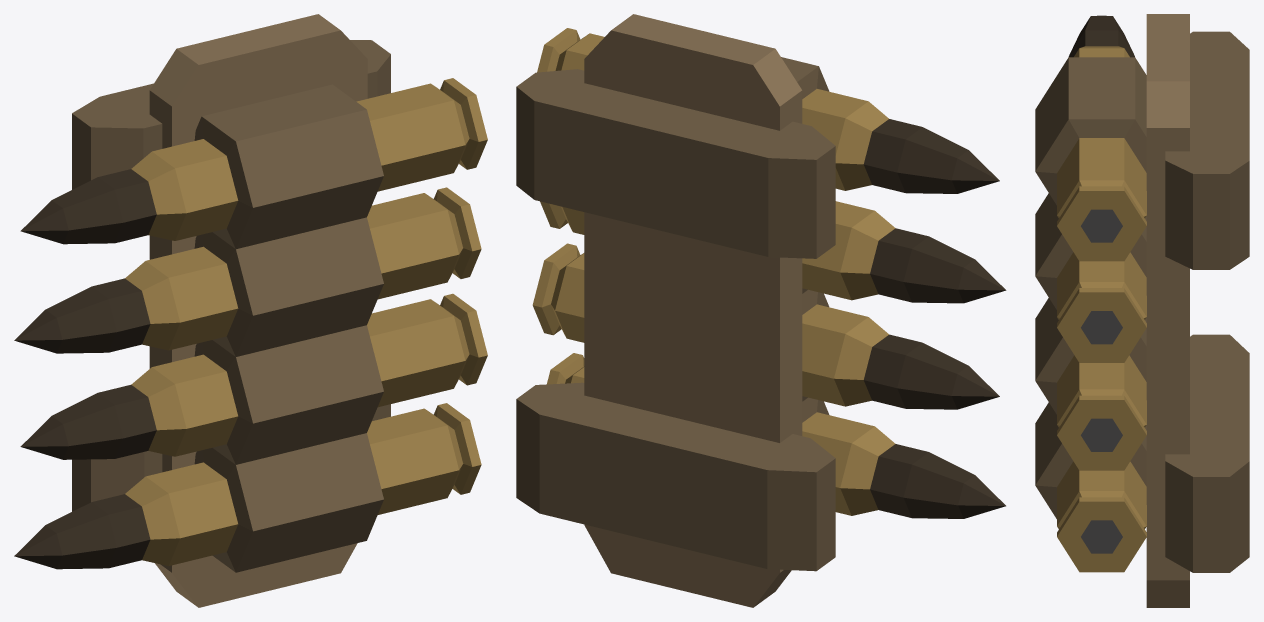
File: SM_Chr_Attach_ShellStrip_Rifle_01.fbx
3 renders of one model, left to right at view 1: azimuth 30°, elevation 25°; view 2: azimuth 150°, elevation 25°; view 3: azimuth 270°, elevation 25°, orthographic. The views are drawn at different scales.
Visible parts, largest first — view 1: SM_Chr_Attach_ShellStrip_Rifle_01; view 2: SM_Chr_Attach_ShellStrip_Rifle_01; view 3: SM_Chr_Attach_ShellStrip_Rifle_01.
Boxes of the visible parts, box(x1,y1,x2,y2) form: SM_Chr_Attach_ShellStrip_Rifle_01: box(14, 14, 487, 607); SM_Chr_Attach_ShellStrip_Rifle_01: box(516, 14, 1006, 607); SM_Chr_Attach_ShellStrip_Rifle_01: box(1035, 14, 1249, 607).
Size of the model in its own units: 11.43 by 13.16 by 4.86.
